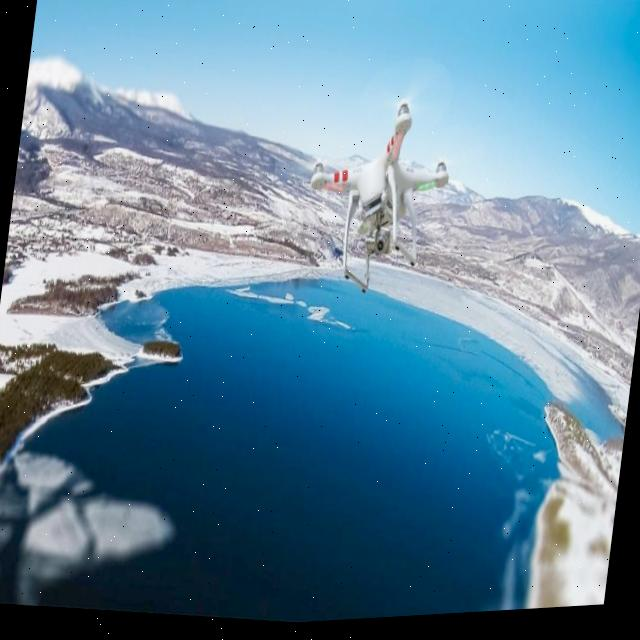drone: (247, 16, 513, 334)
